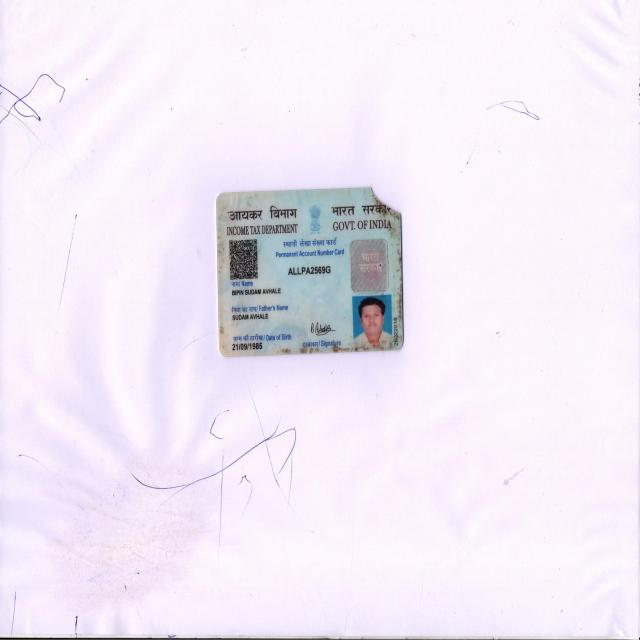pan_card: (215, 189, 404, 360)
